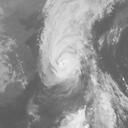cyclone: (39, 31, 90, 96)
